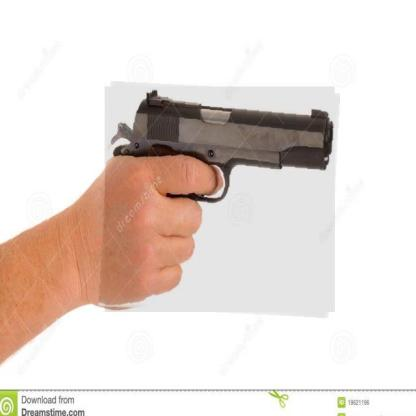handgun: (101, 83, 338, 315)
